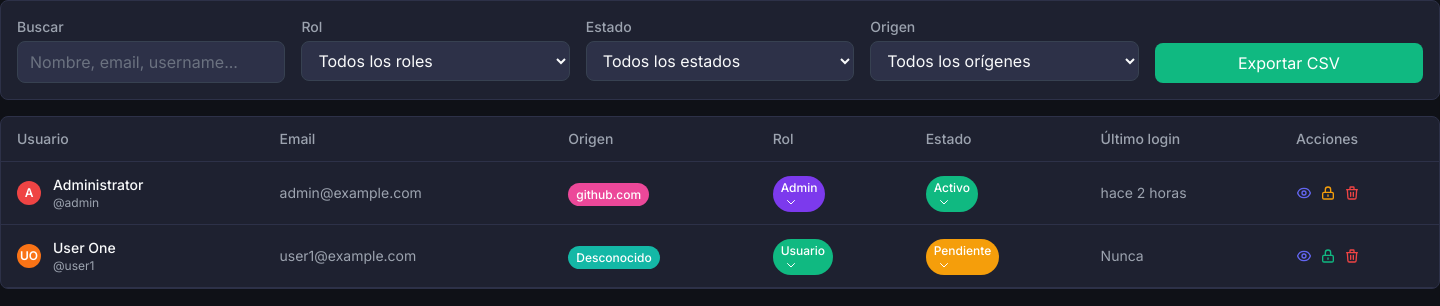
Scenario: UsersTable › debería filtrar por rol con el select interno
Select "ADMIN" in the dropdown labelled "Rol" at (436, 61), box [301,41,570,81]
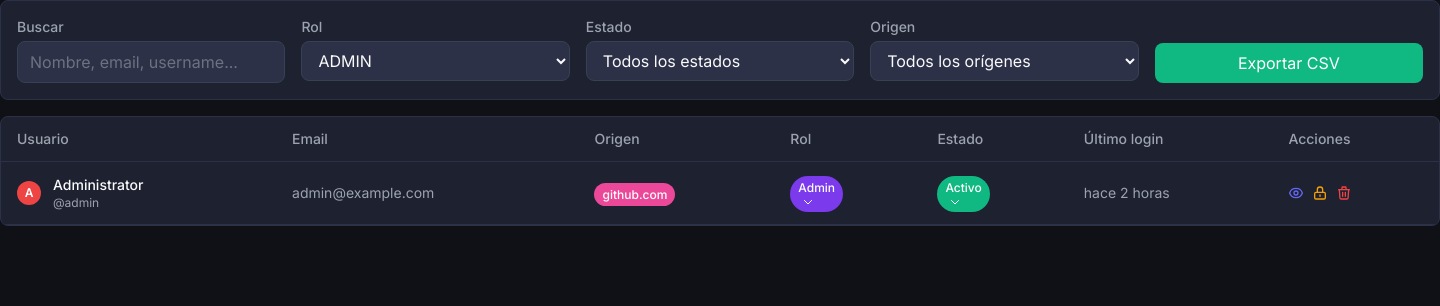
Expected: the text "@admin" is shown, [53,195,99,210]
Now the text "@user1" is gone
